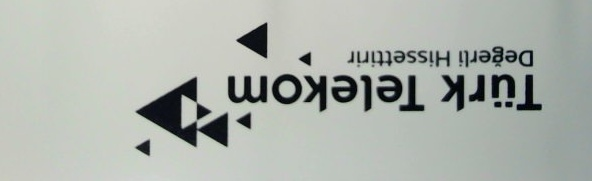AQ_TURKTelekom: (119, 14, 550, 162)
